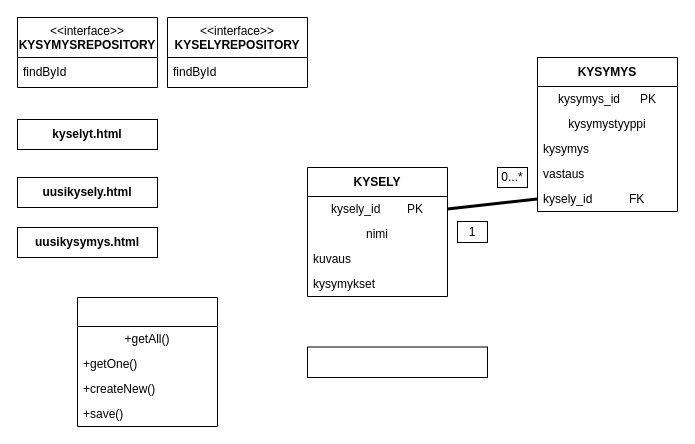
Some shapes in this 695 by 444 pixel diagram are drawn without their labels. Each missing label, with the box of its shape:
KyselyController: (76, 296, 218, 426)
kyselyPalvelu Application: (306, 346, 488, 378)
